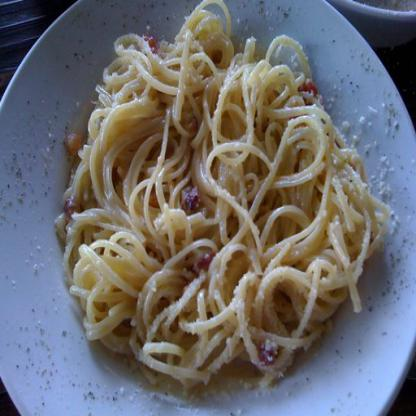Noodles: (53, 0, 390, 391)
